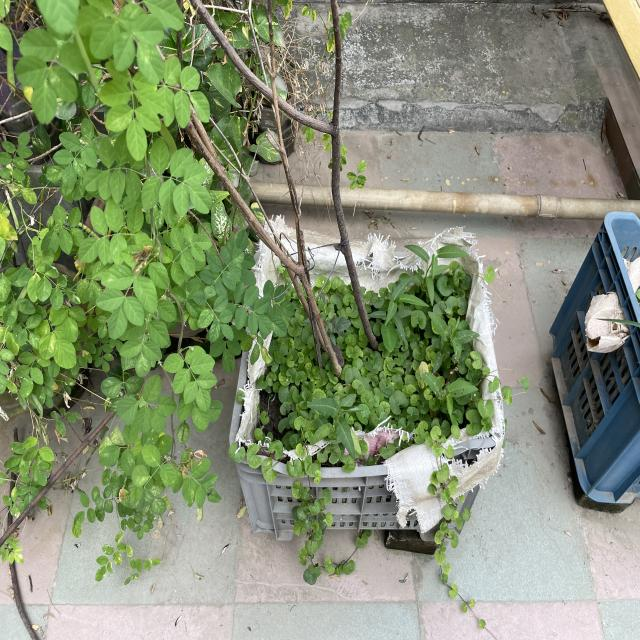Breeding Place: (241, 224, 496, 552)
